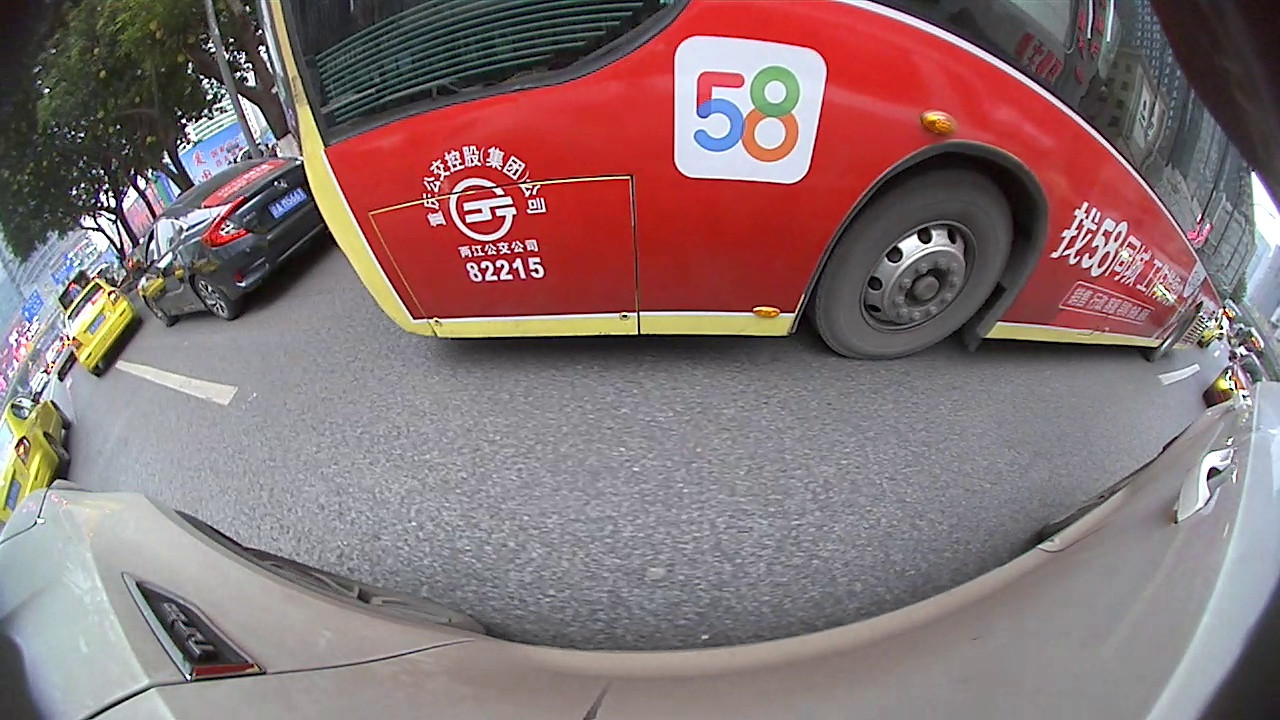bus: (247, 2, 1261, 364)
car: (136, 154, 333, 331), (2, 387, 73, 527), (61, 272, 149, 381)
front: (806, 162, 1017, 363), (142, 291, 175, 330)
rear: (1145, 304, 1203, 361), (189, 278, 237, 321)
